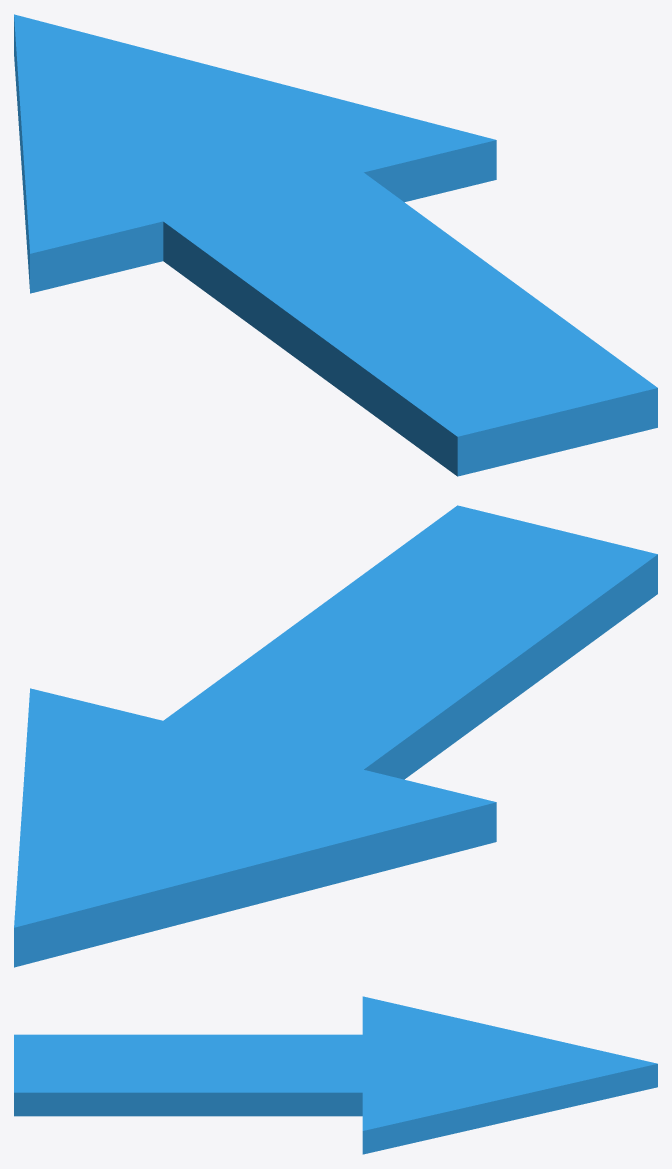
Rendered from driver_arrow.glb.
3 renders of one model, top to bottom at view 1: azimuth 30°, elevation 25°; view 2: azimuth 150°, elevation 25°; view 3: azimuth 270°, elevation 25°, orthographic. The views are drawn at different scales.
Size of the model in its own units: 2.7 by 0.22 by 5.45.
